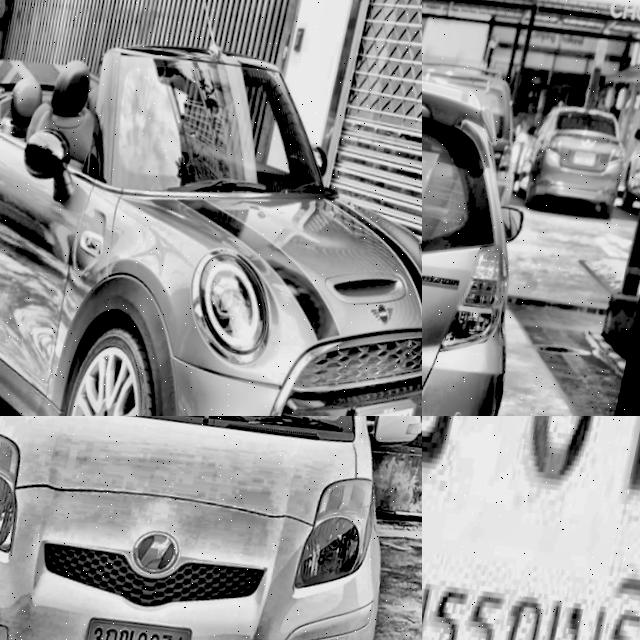license-plate: (422, 416, 640, 640), (78, 612, 201, 640), (334, 387, 422, 416)
